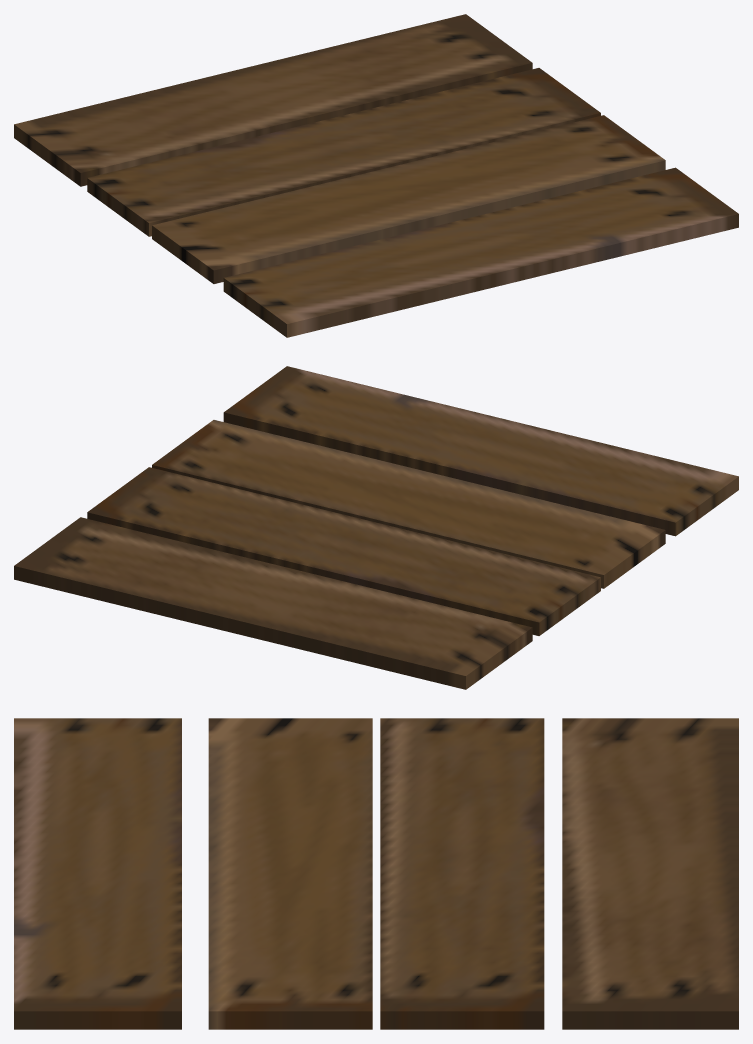
The model's file is pz_barricade_4.obj.
The picture shows the model from 3 angles, top to bottom: view 1: azimuth 30°, elevation 25°; view 2: azimuth 150°, elevation 25°; view 3: azimuth 270°, elevation 25°; orthographic projection. The views are drawn at different scales.
Bounding box in the file's own units: 1 × 0.029 × 1.05.
Materials: 1 (1 with a texture image).
